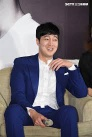male: (29, 22, 75, 73)
